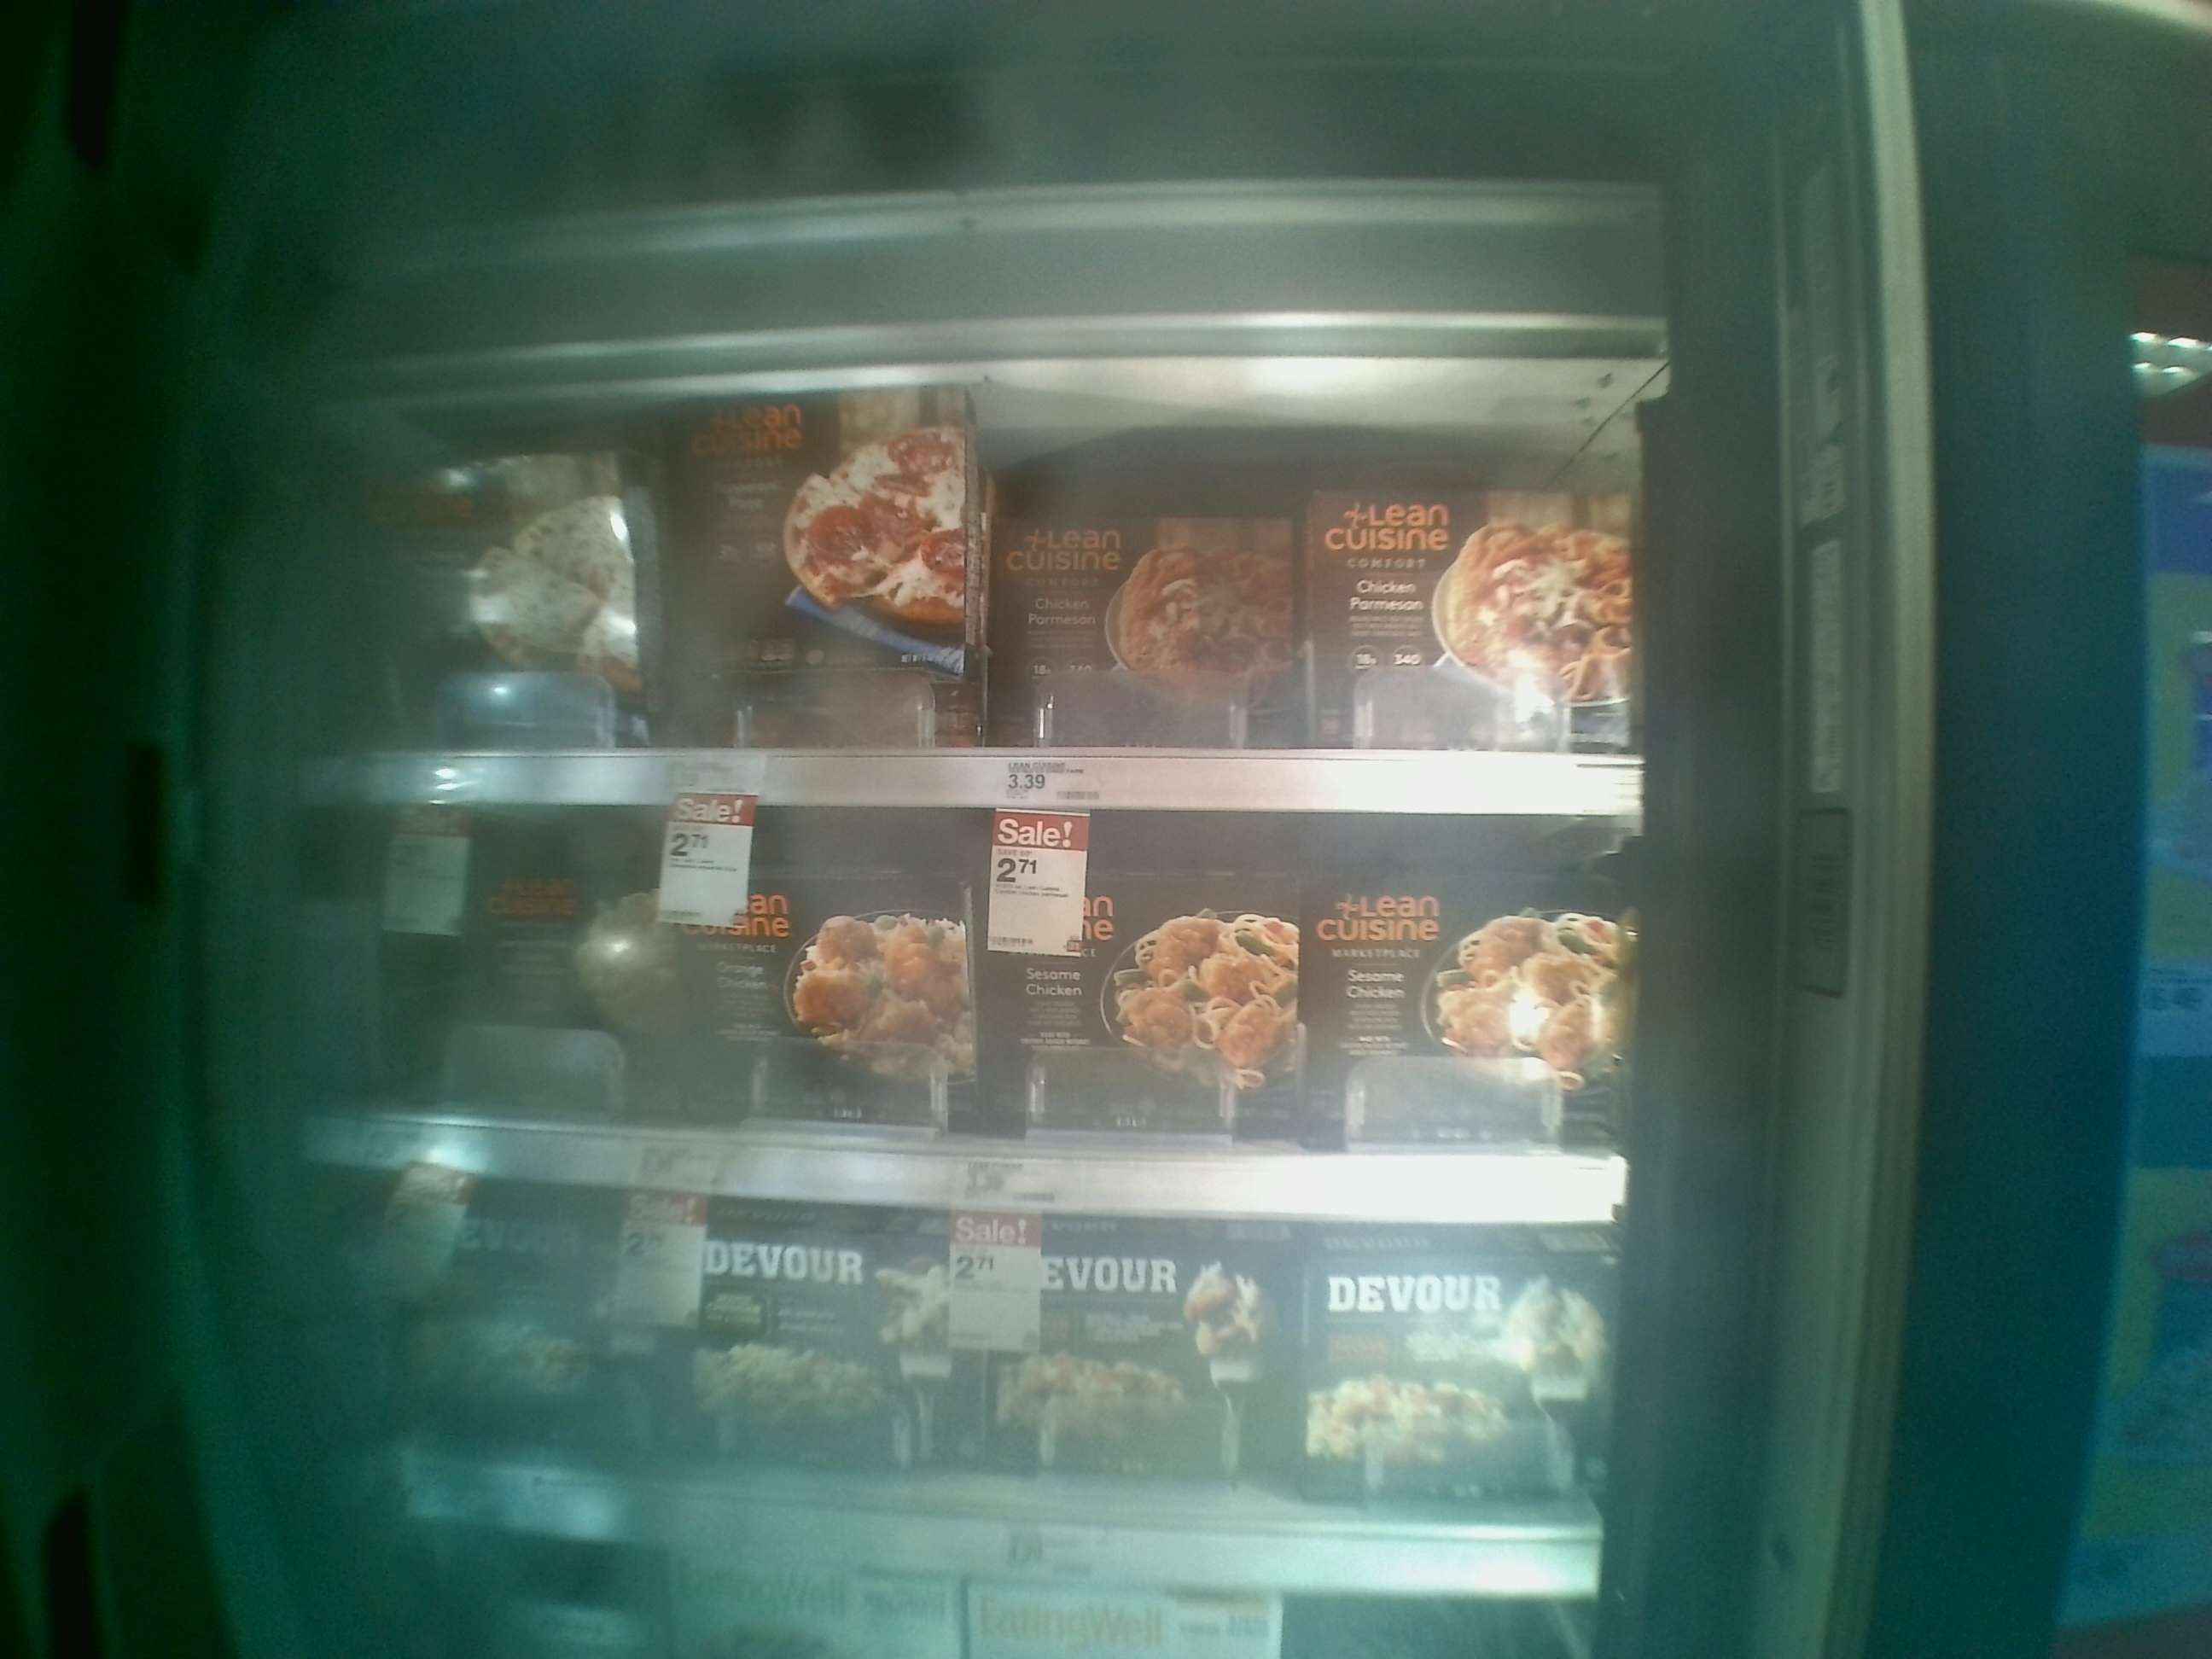shelf: (289, 345, 1635, 819), (296, 803, 1634, 1236), (310, 1168, 1616, 1601)
